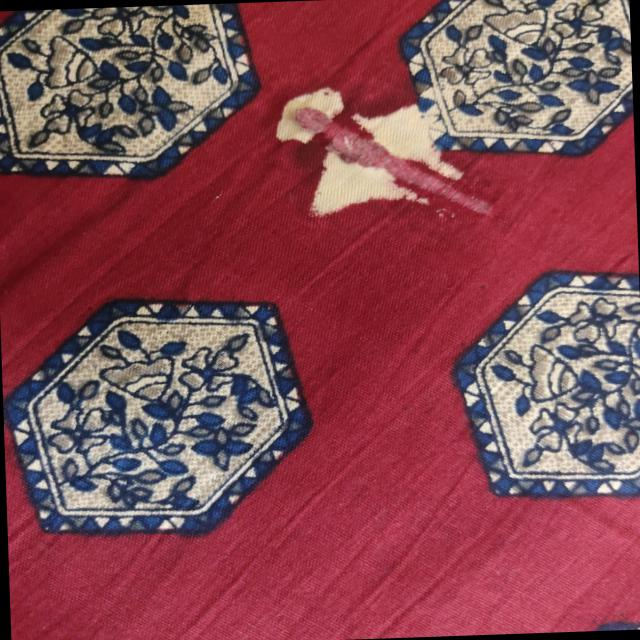stain: (280, 76, 471, 224)
